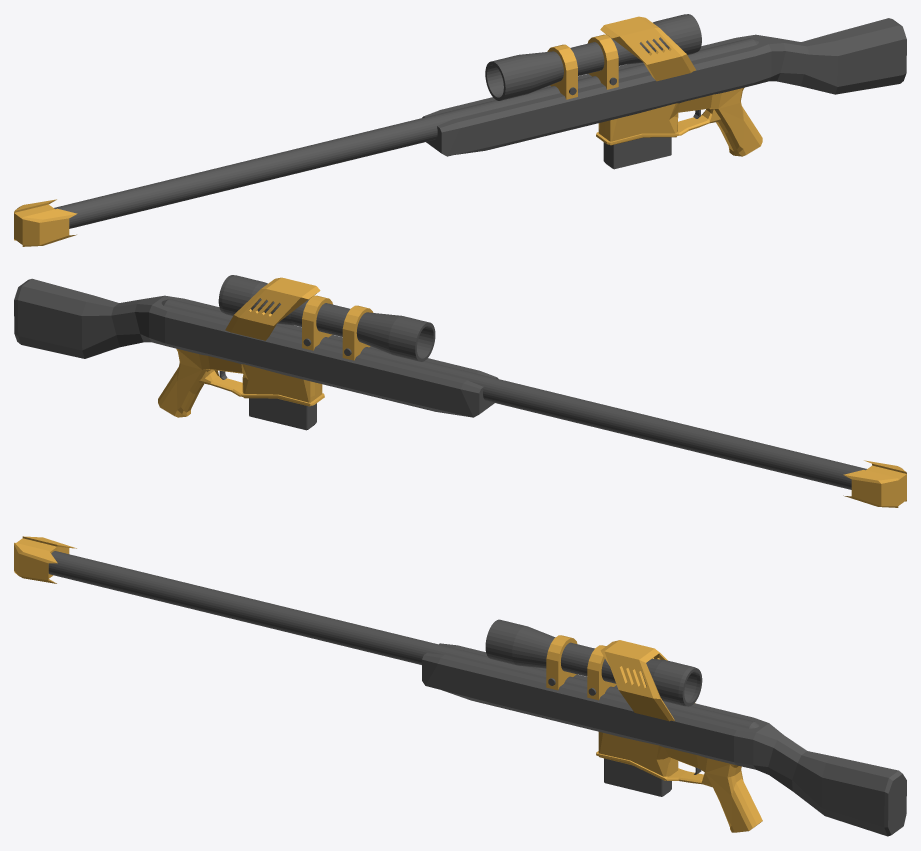
File: sniperRifle.fbx
3 views of the same model, one above another, from view 1: azimuth 30°, elevation 25°; view 2: azimuth 150°, elevation 25°; view 3: azimuth 330°, elevation 25° (orthographic).
Parts seen in each view (by area): view 1: Cube; view 2: Cube; view 3: Cube.
Part boxes in pixels (x1,y1,x2,y2): Cube: [14, 14, 906, 246]; Cube: [14, 275, 906, 507]; Cube: [14, 536, 906, 836].
Bounding box in the file's own units: 5056 × 839 × 285.
